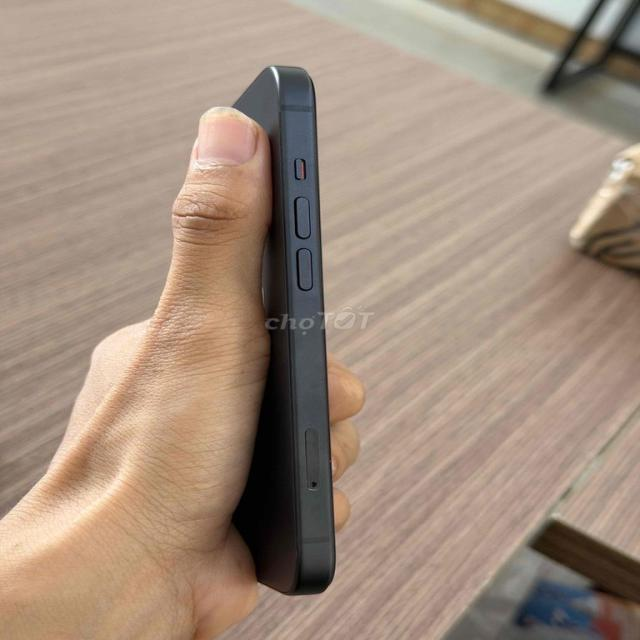gen_15: (190, 53, 375, 599)
